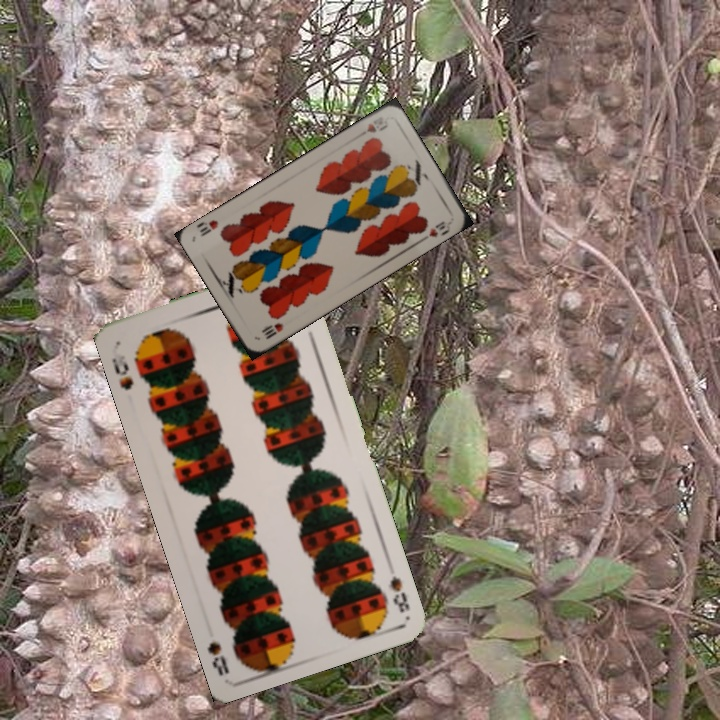H10: (257, 319, 286, 342), (362, 119, 391, 135)
S8: (108, 344, 137, 393), (385, 572, 413, 615)
